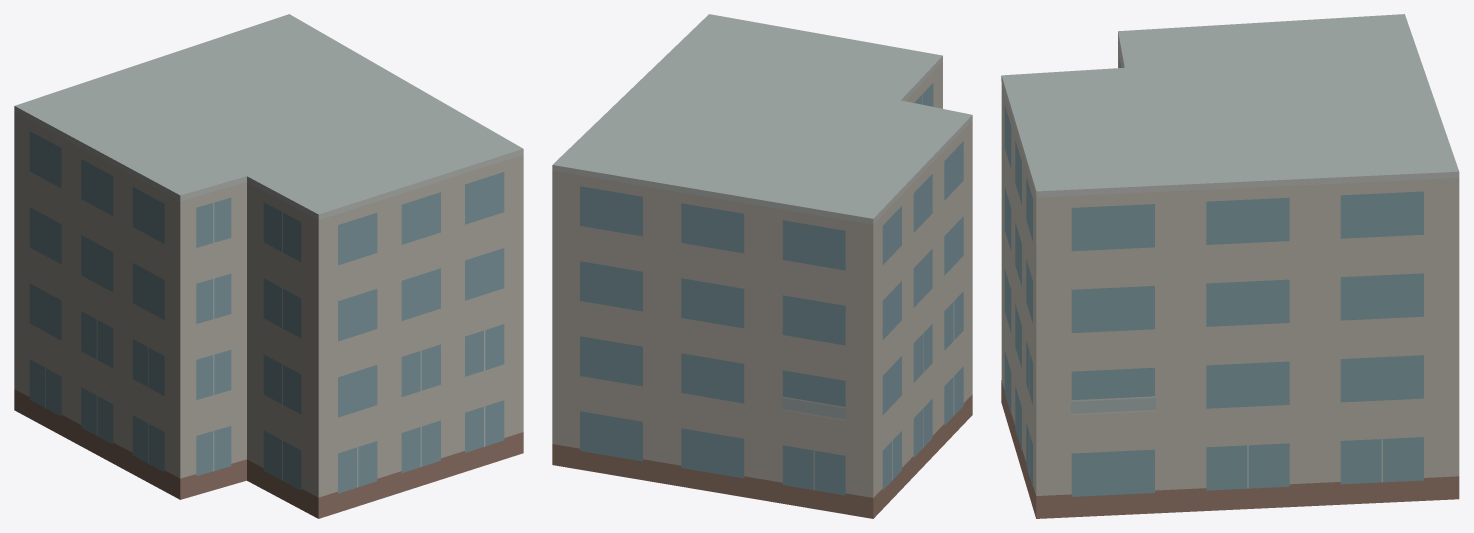
File: survey-upis-32930539.glb
3 views of the same model, side by side, from view 1: azimuth 30°, elevation 25°; view 2: azimuth 150°, elevation 25°; view 3: azimuth 270°, elevation 25° (orthographic). The views are drawn at different scales.
Visible parts, largest first — view 1: survey-upis-32930539.tmp; view 2: survey-upis-32930539.tmp; view 3: survey-upis-32930539.tmp.
Boxes of the visible parts, x1,y1,x2,y2 form: survey-upis-32930539.tmp: [14, 14, 523, 518]; survey-upis-32930539.tmp: [552, 14, 972, 518]; survey-upis-32930539.tmp: [1001, 14, 1459, 518].
Size of the model in its own units: 14.88 by 12.8 by 16.23.
